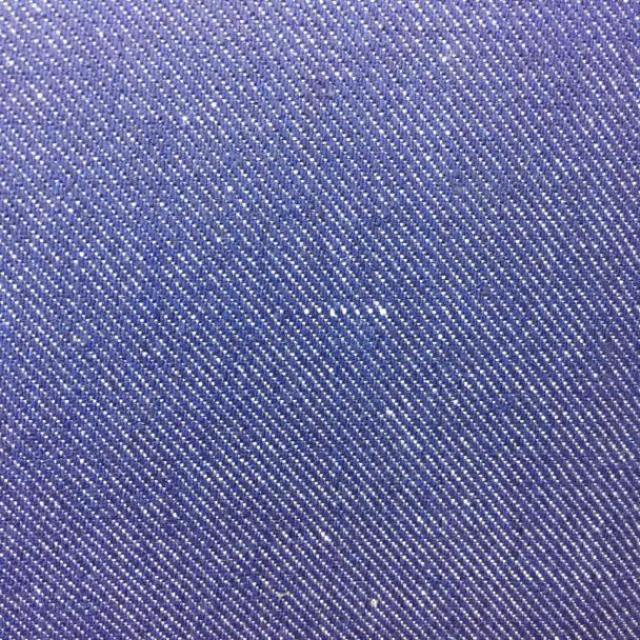Knot: (303, 300, 389, 321)
